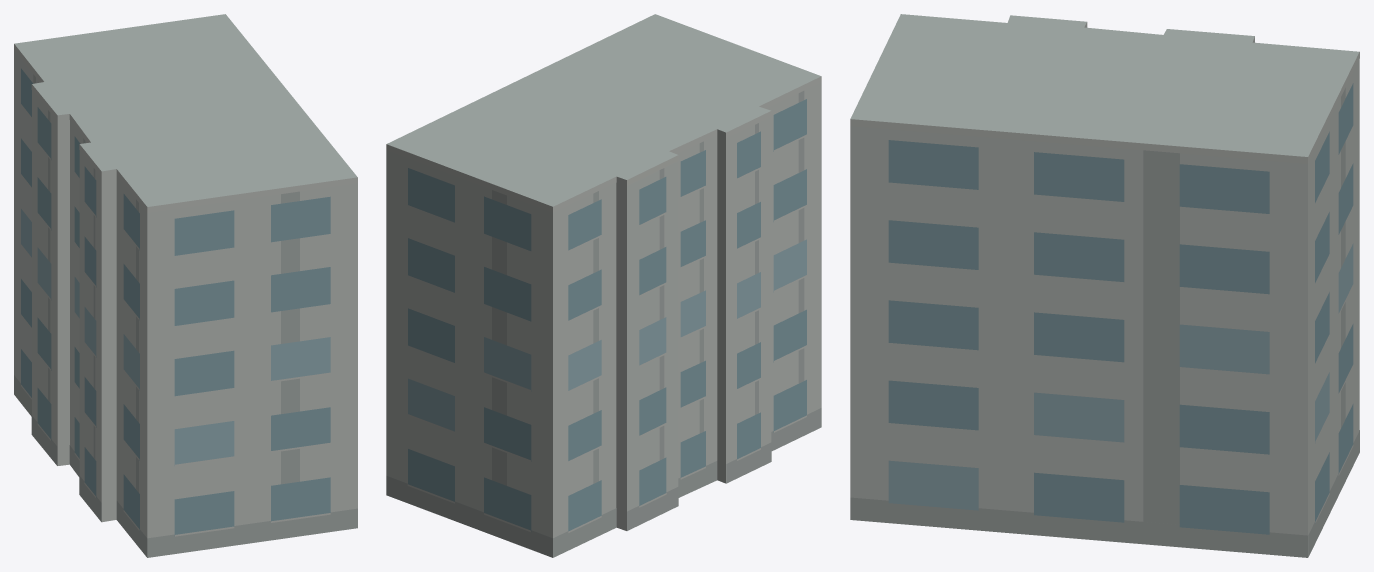
Rendered from survey-upis-32885322.glb.
3 renders of one model, left to right at view 1: azimuth 30°, elevation 25°; view 2: azimuth 150°, elevation 25°; view 3: azimuth 270°, elevation 25°, orthographic. The views are drawn at different scales.
Parts seen in each view (by area): view 1: survey-upis-32885322.tmp; view 2: survey-upis-32885322.tmp; view 3: survey-upis-32885322.tmp.
Boxes of the visible parts, box(x1,y1,x2,y2) form: survey-upis-32885322.tmp: box(14, 14, 357, 557); survey-upis-32885322.tmp: box(386, 14, 821, 557); survey-upis-32885322.tmp: box(850, 14, 1359, 557).
Size of the model in its own units: 10.88 by 14.2 by 16.36.
